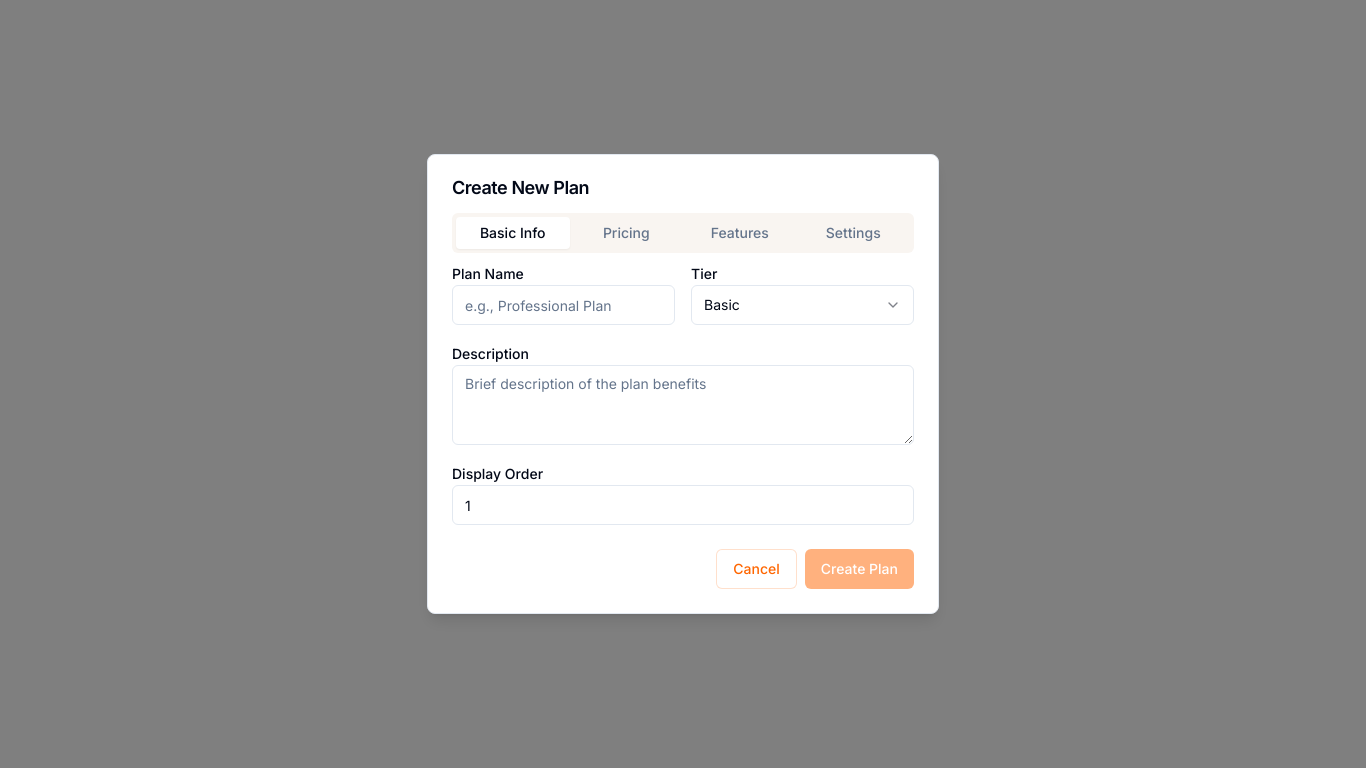
Test case: PlanFormModal Component › Features Tab › should add custom features
Click the tab "Features". click: (740, 233)
box: [683, 217, 796, 249]
(page scrolled)
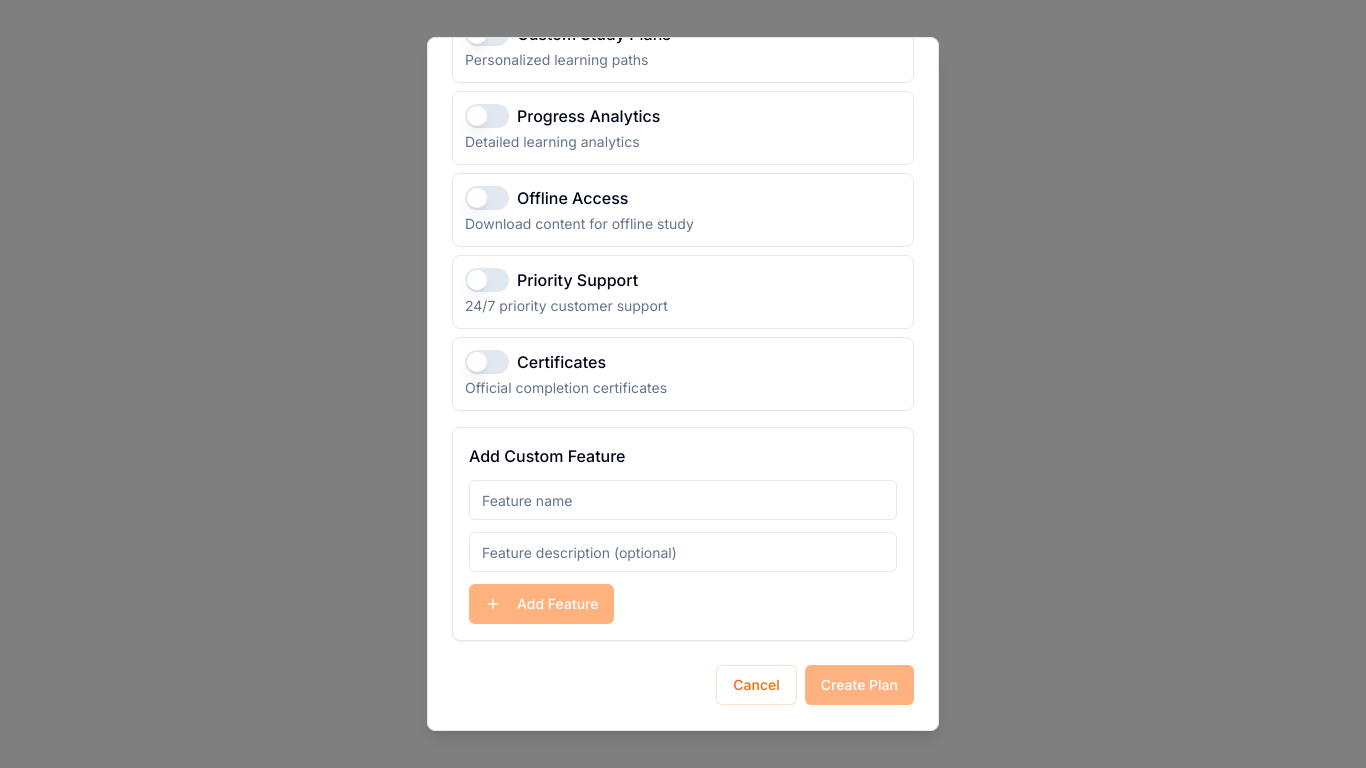
Type "Premium Support" into the field with placeholder "Feature name". click: (683, 500)
box: [469, 480, 897, 520]
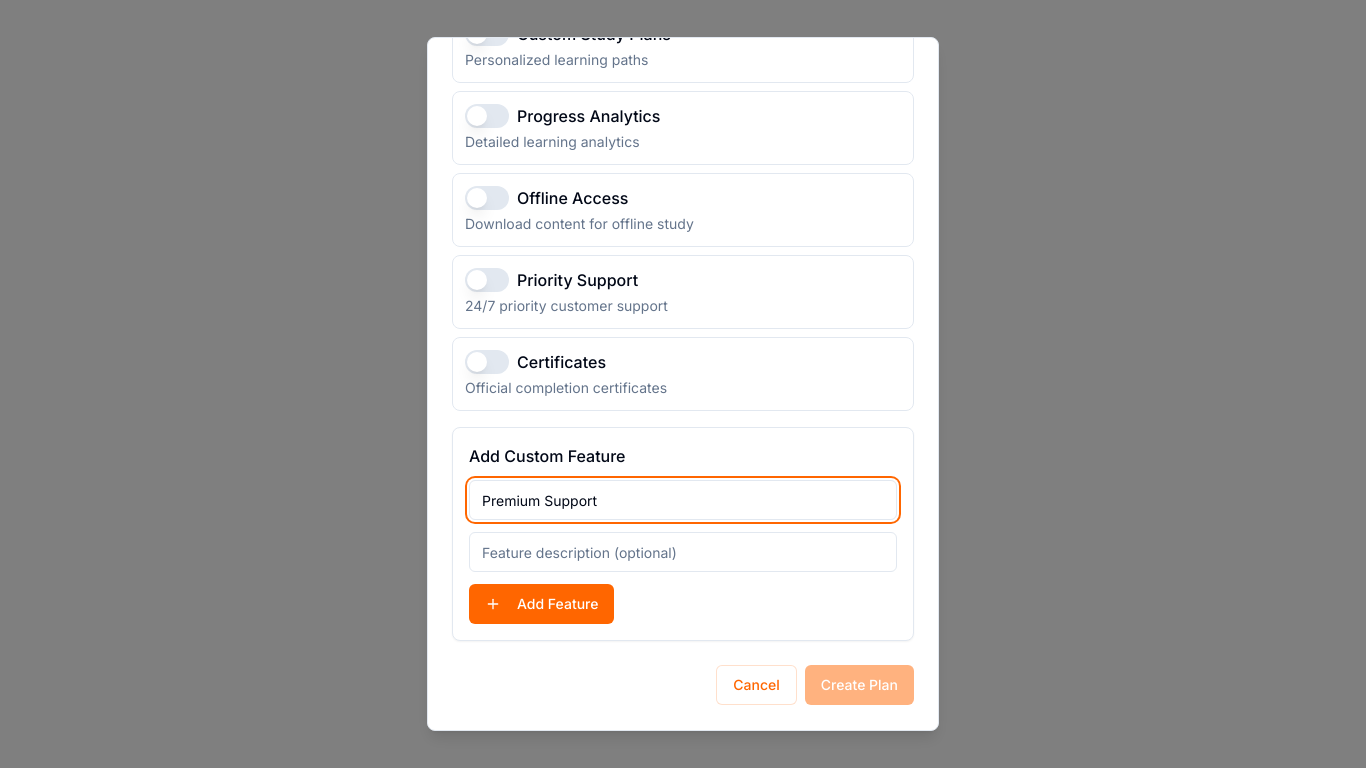
Type "24/7 premium customer support" into the field with placeholder "Feature description (optional)". click: (683, 552)
box: [469, 532, 897, 572]
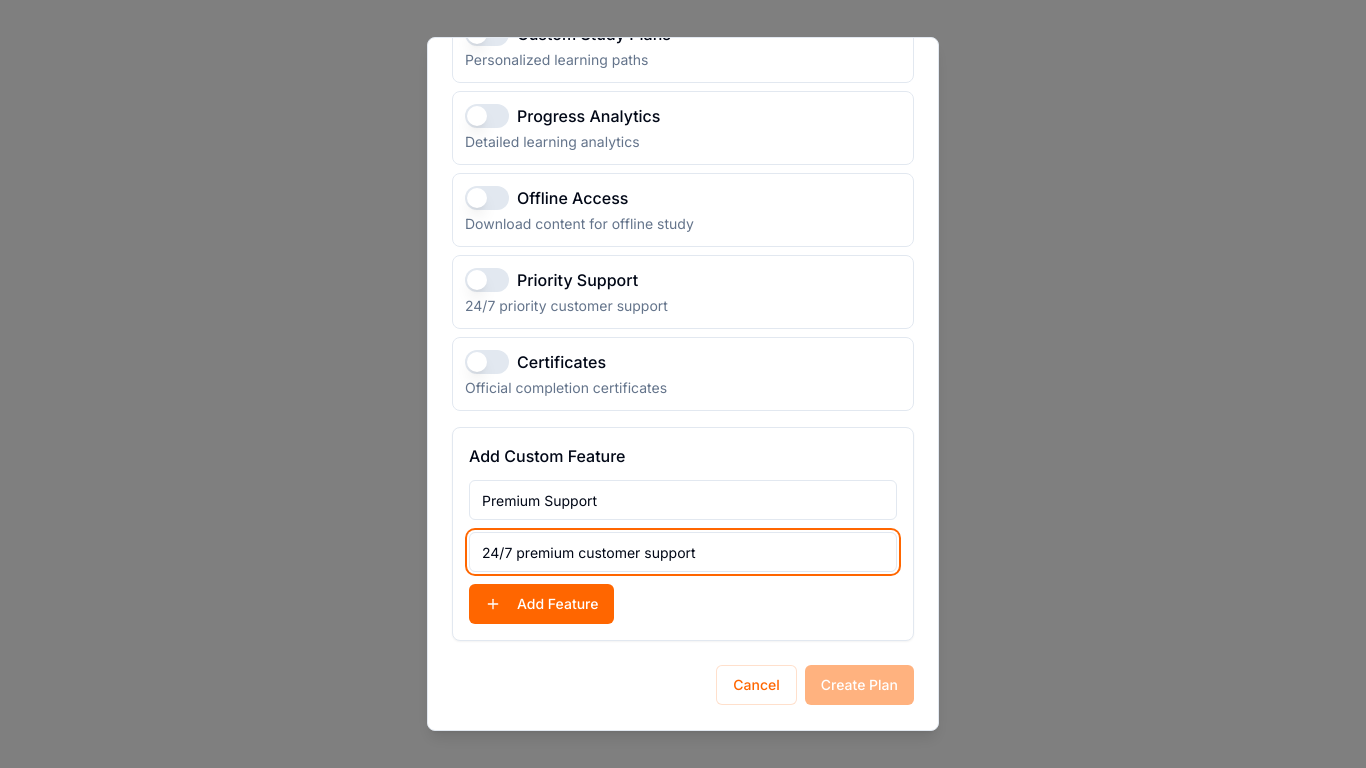
Click the button "Add Feature". click: (542, 604)
box: [469, 584, 614, 624]
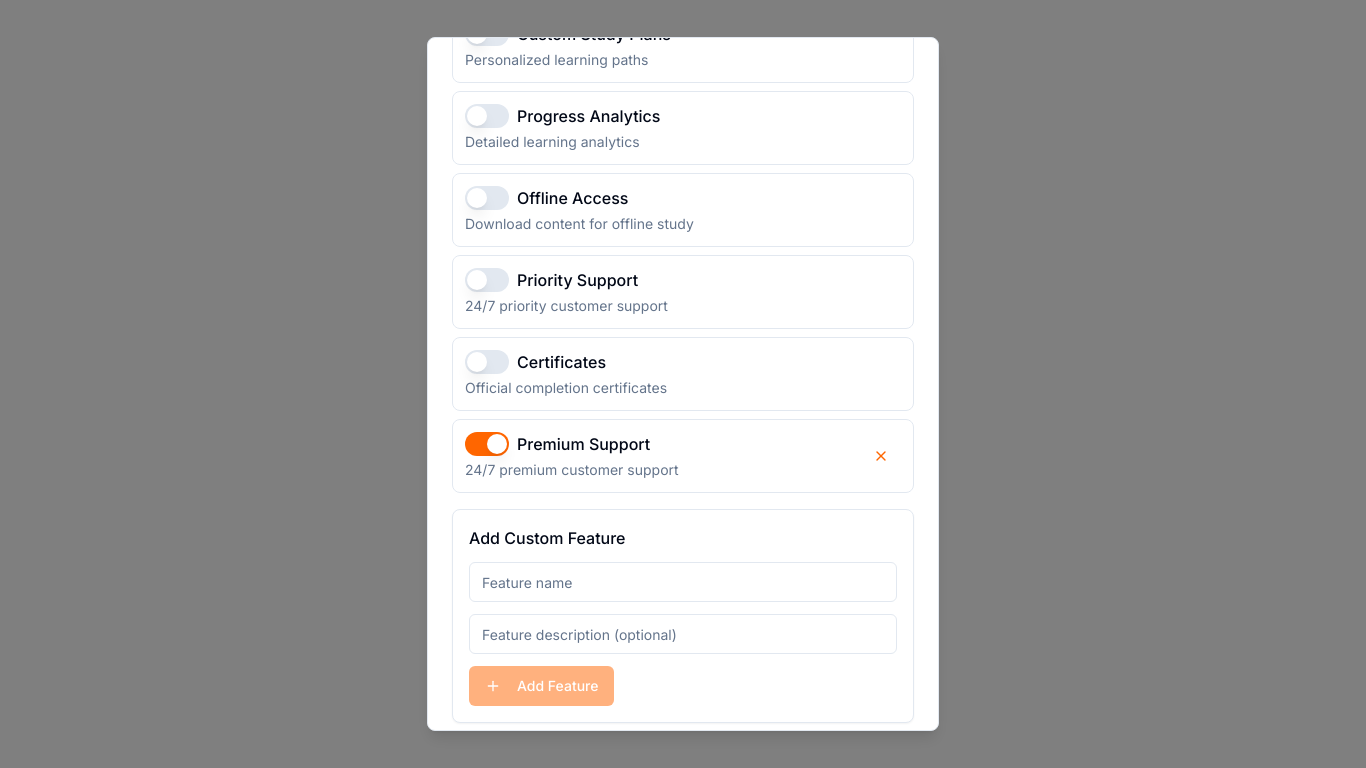
Expected: the text "Premium Support" is shown, [517, 432, 650, 456]
Expected: the text "24/7 premium customer support" is shown, [465, 461, 679, 478]
Expected: the field with placeholder "Feature name" is empty, [469, 562, 897, 602]
